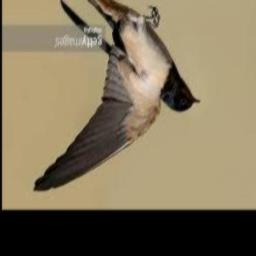Swallow: (33, 0, 202, 192)
